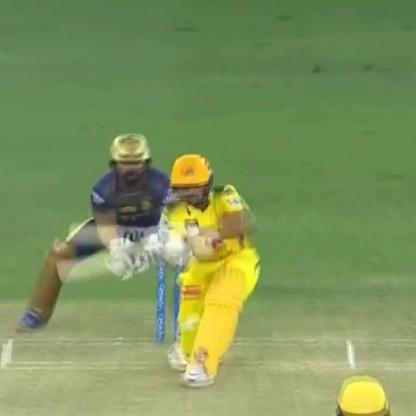ball: (183, 314, 203, 334)
bat: (54, 220, 190, 254), (49, 248, 190, 278)
pitch: (2, 299, 416, 415)
